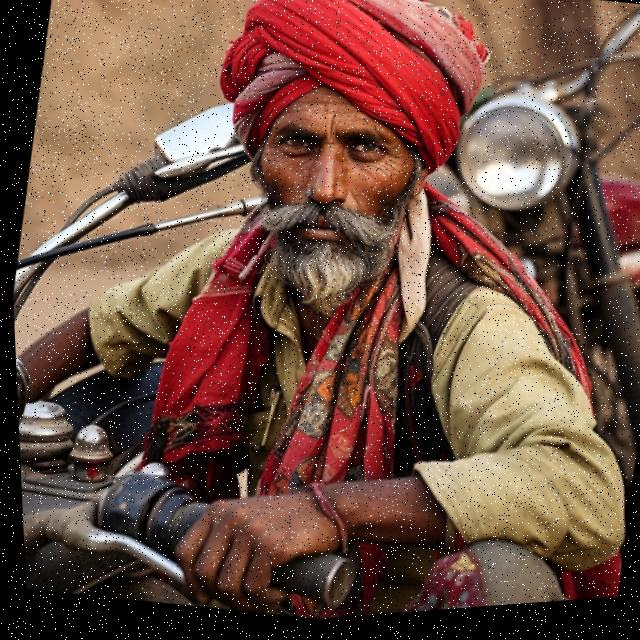illegal_helmet: (174, 0, 513, 347)
